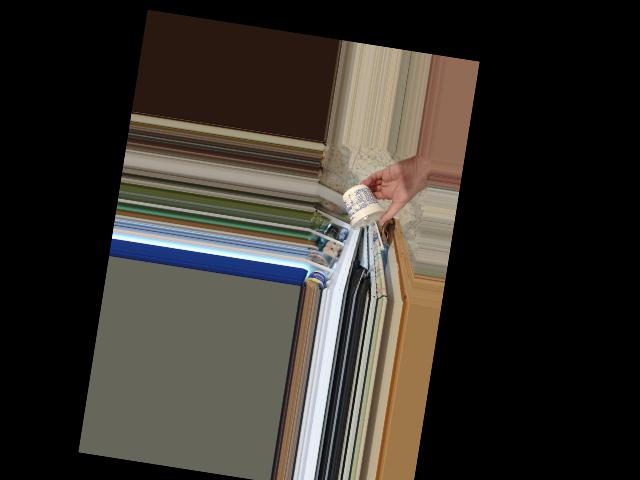cotage: (343, 180, 389, 236)
